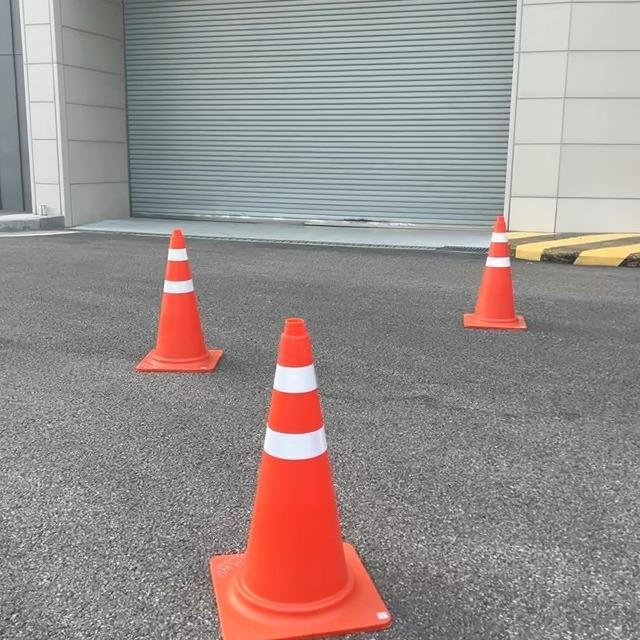fallen_object: (168, 331, 444, 640), (410, 180, 574, 373), (120, 215, 238, 409)
